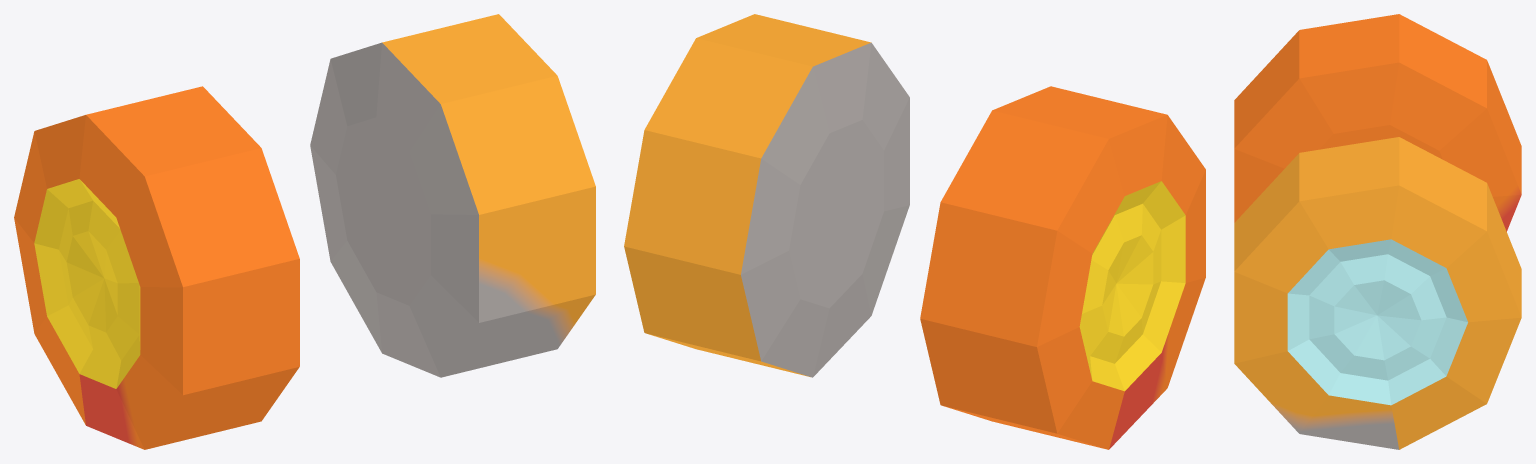
The model's file is plane-passenger-wheels_BL3.glb.
The picture shows the model from 3 angles, left to right: view 1: azimuth 30°, elevation 25°; view 2: azimuth 150°, elevation 25°; view 3: azimuth 270°, elevation 25°; orthographic projection. The views are drawn at different scales.
Parts seen in each view (by area): view 1: plane-passenger-wheels_BL3; view 2: plane-passenger-wheels_BL3; view 3: plane-passenger-wheels_BL3.
Boxes of the visible parts, x1,y1,x2,y2 form: plane-passenger-wheels_BL3: [14, 14, 595, 449]; plane-passenger-wheels_BL3: [624, 14, 1205, 449]; plane-passenger-wheels_BL3: [1234, 14, 1521, 449].
Size of the model in its own units: 1.94 by 1.33 by 1.31.
1 material, 1 textured.
